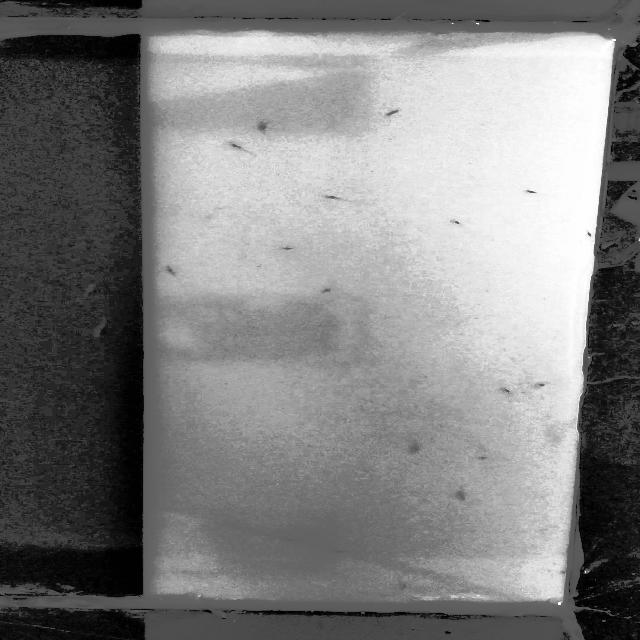shrimp: (222, 137, 261, 157), (391, 578, 417, 596), (318, 193, 354, 206), (162, 262, 186, 280), (512, 186, 551, 197), (380, 106, 414, 118), (528, 378, 554, 393), (252, 122, 282, 135), (276, 534, 303, 547), (448, 489, 470, 504), (317, 284, 342, 296), (273, 244, 301, 254), (402, 442, 429, 452), (444, 218, 468, 228), (494, 386, 512, 399), (580, 224, 594, 238), (334, 550, 358, 556)
